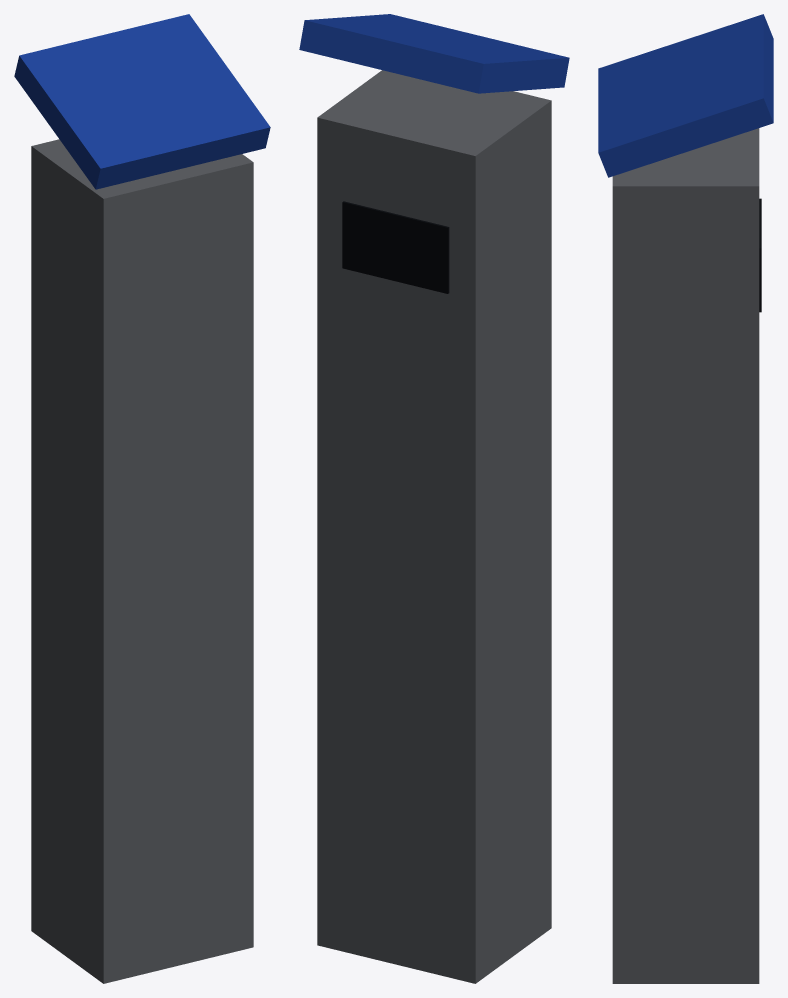
File: street.traffic.parking_meter.glb
3 views of the same model, side by side, from view 1: azimuth 30°, elevation 25°; view 2: azimuth 150°, elevation 25°; view 3: azimuth 270°, elevation 25° (orthographic). The views are drawn at different scales.
Parts seen in each view (by area): view 1: main__plastic_grey, main__plastic_blue; view 2: main__plastic_grey, main__plastic_blue, main__screen; view 3: main__plastic_grey, main__plastic_blue.
Boxes of the visible parts, left/top/right/bottom form: main__plastic_grey: left=31, top=139, right=253, bottom=983; main__plastic_blue: left=14, top=14, right=270, bottom=189; main__plastic_grey: left=317, top=70, right=551, bottom=983; main__plastic_blue: left=299, top=14, right=569, bottom=93; main__screen: left=342, top=201, right=449, bottom=293; main__plastic_grey: left=612, top=128, right=759, bottom=983; main__plastic_blue: left=598, top=14, right=773, bottom=177.
Bounding box in the file's own units: 0.34 × 1.67 × 0.299.
